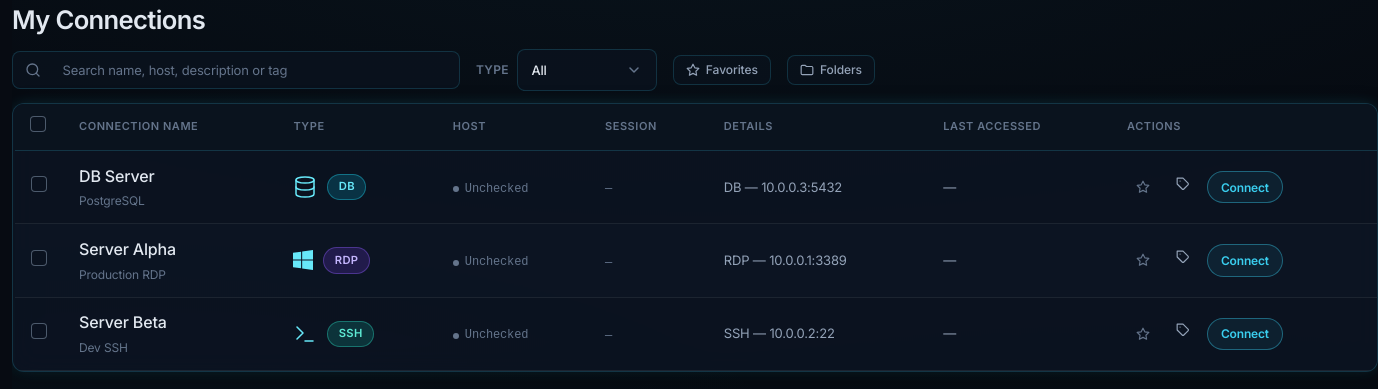
Scenario: Dashboard › filters connections by search
Expected: the text "Server Alpha" is shown, [79,239,176,259]
Type "Beta" into the field with placeholder "Search name, host, description or tag" at (248,70), box [49,52,447,88]
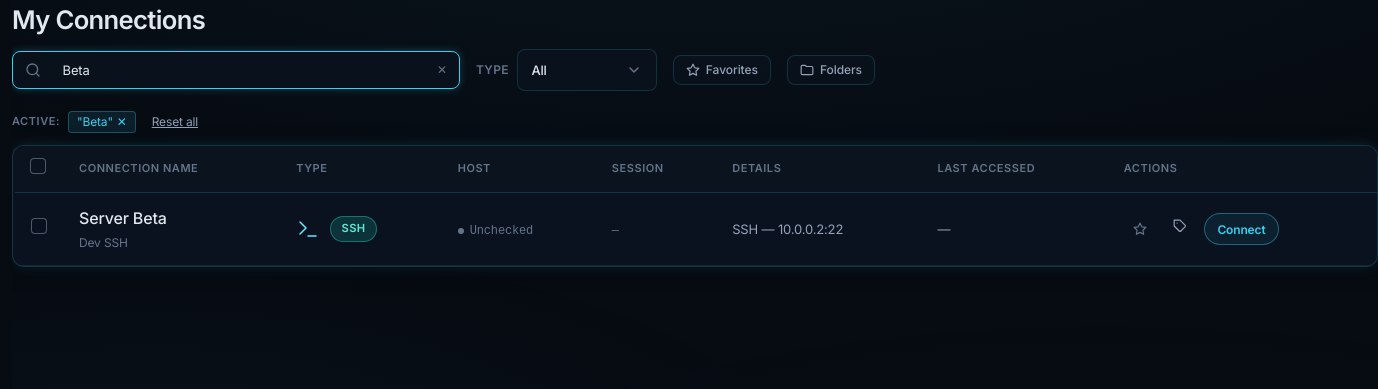
Expected: the text "Server Beta" is shown, [79,208,167,228]
Expected: the text "Server Alpha" is gone
Expected: the text "DB Server" is gone
